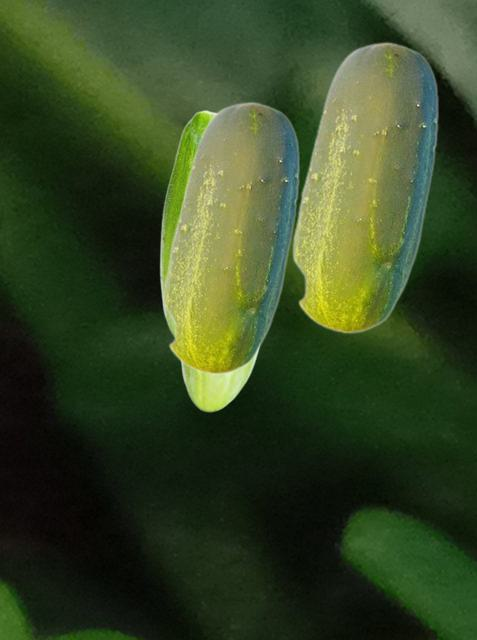cucumber: (291, 41, 437, 333), (162, 101, 298, 374), (159, 110, 215, 337), (178, 347, 261, 411)
